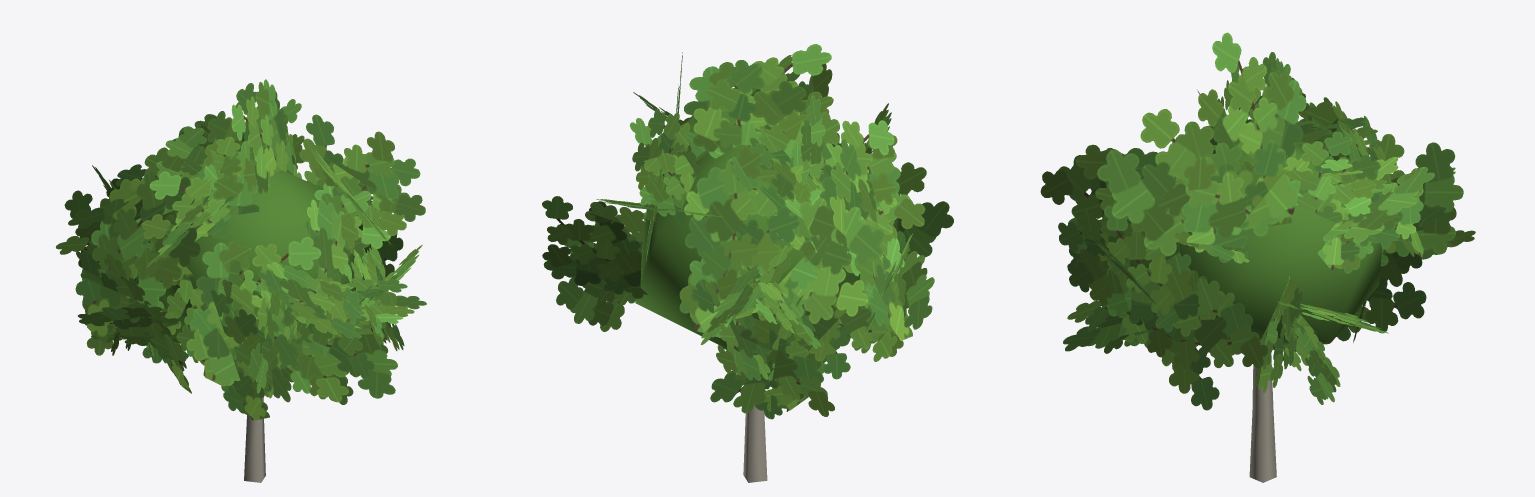
File: ACER_2.glb
The picture shows the model from 3 angles, left to right: view 1: azimuth 30°, elevation 25°; view 2: azimuth 150°, elevation 25°; view 3: azimuth 270°, elevation 25°; orthographic projection. The views are drawn at different scales.
Visible parts, largest first — view 1: Arv_ACER_lod2; view 2: Arv_ACER_lod2; view 3: Arv_ACER_lod2.
Boxes of the visible parts, box(x1,y1,x2,y2) form: Arv_ACER_lod2: box(56, 79, 426, 482); Arv_ACER_lod2: box(542, 44, 953, 482); Arv_ACER_lod2: box(1040, 32, 1475, 482).
Bounding box in the file's own units: 11.86 × 13.36 × 13.38.
Materials: 3 (1 with a texture image).
